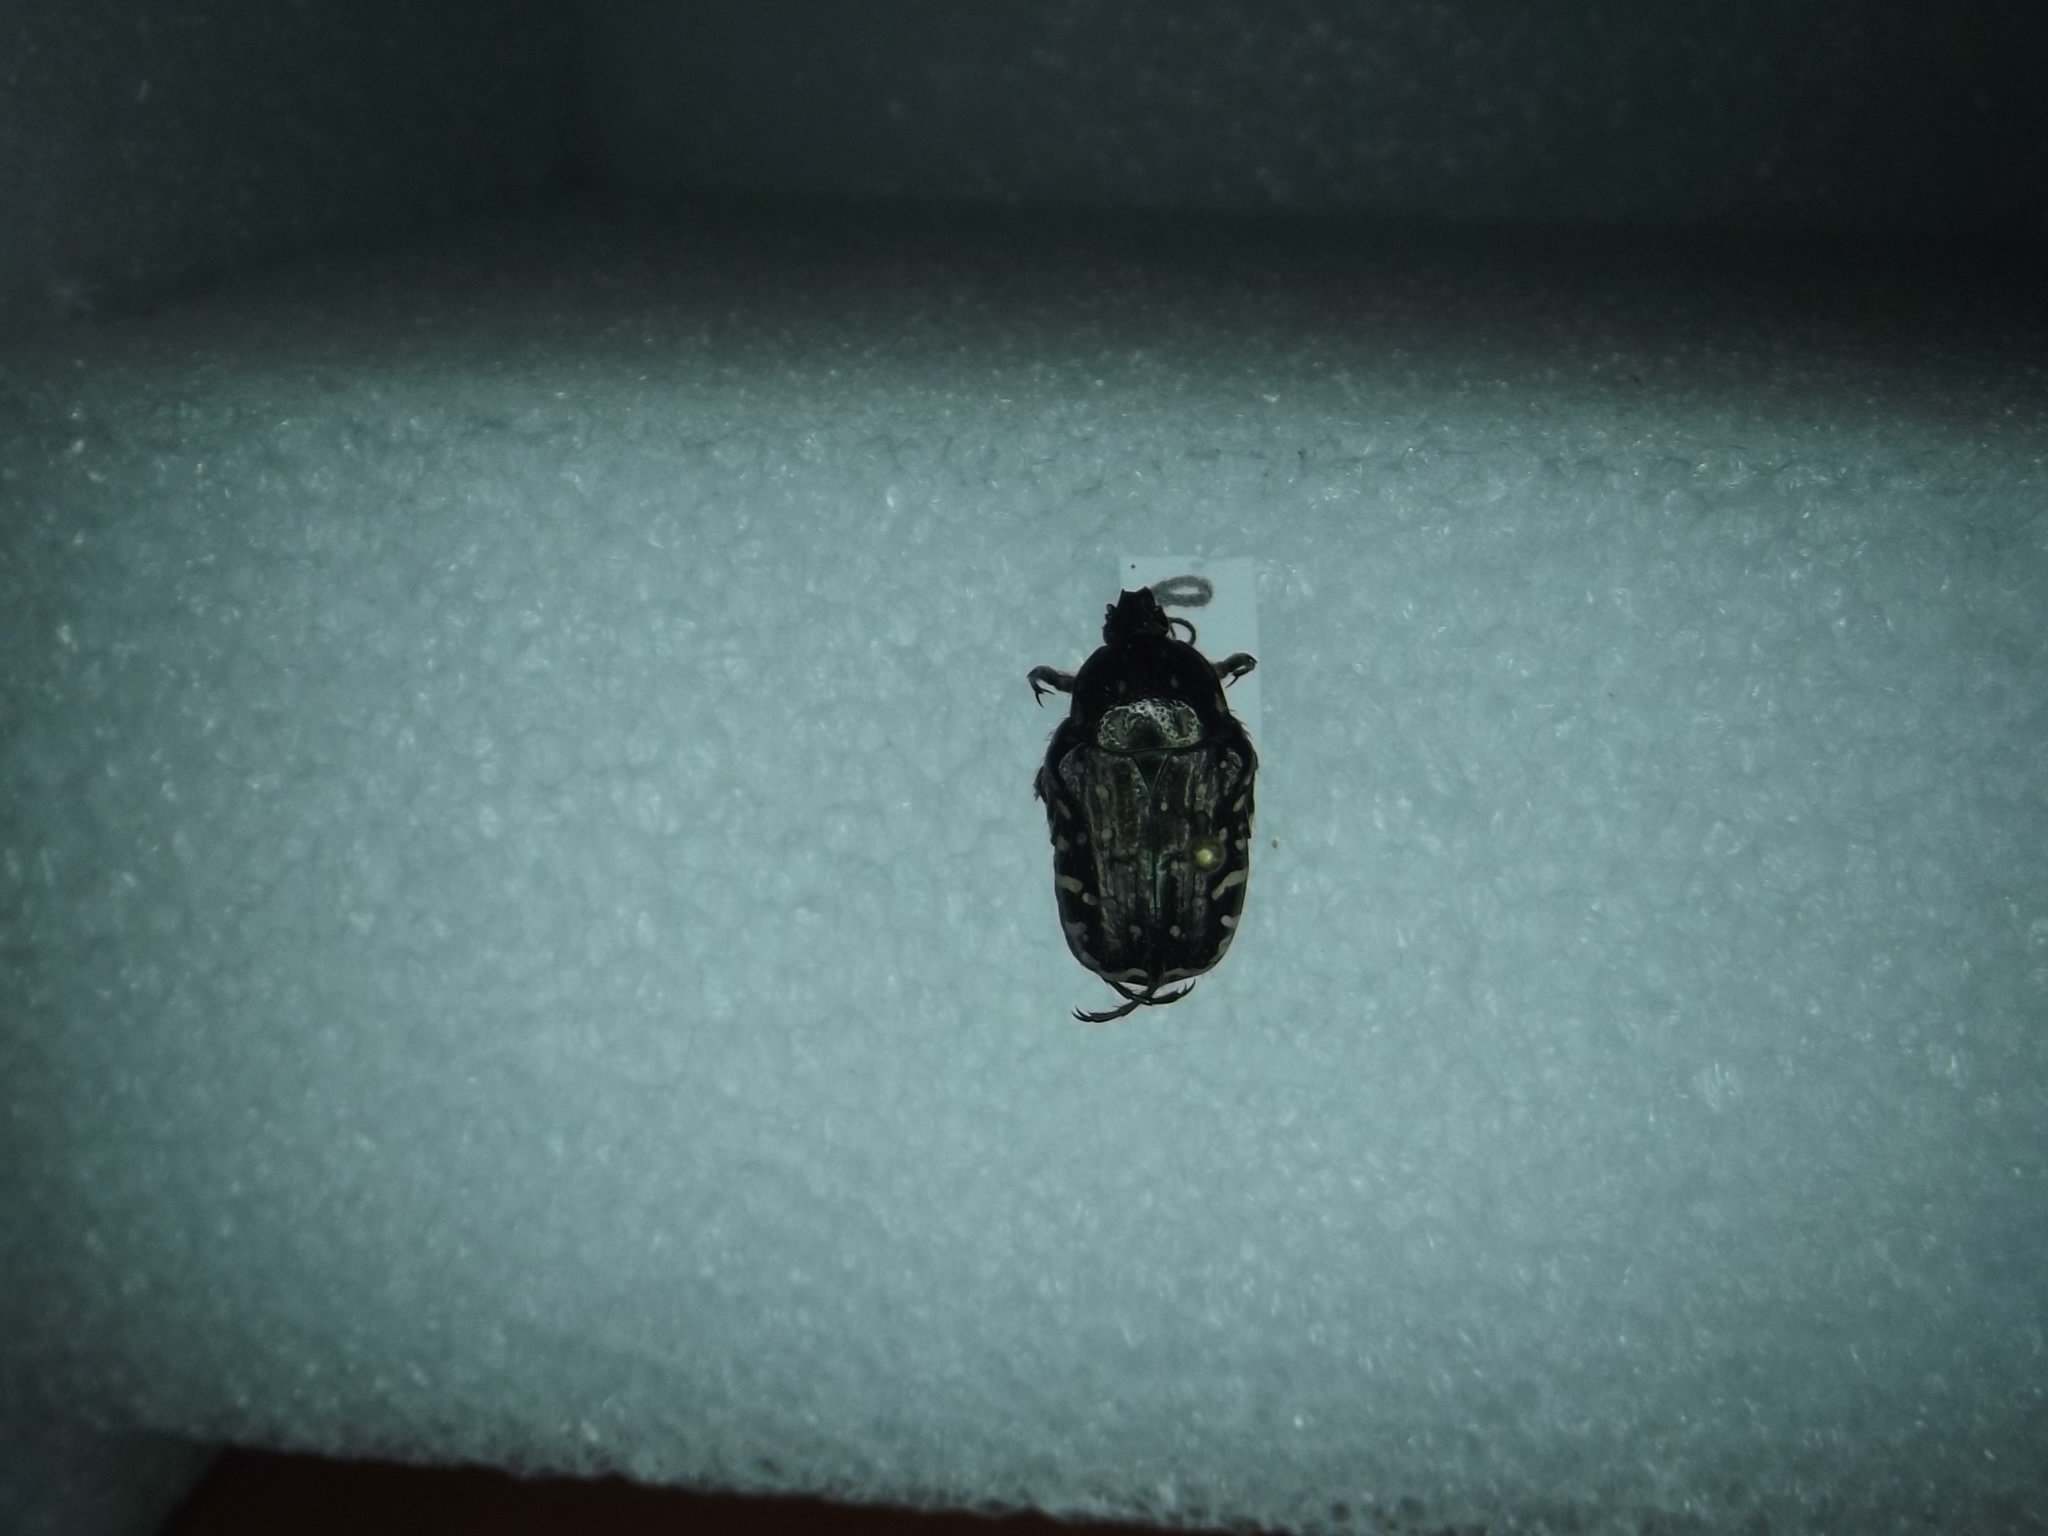Oxythyrea_funesta: (1005, 574, 1284, 1033)
